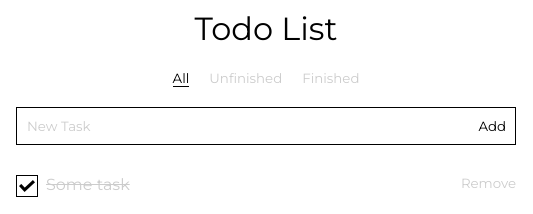
Remove task
The image size is (533, 214).
Click the button "Remove" at (488, 183), box 461,175 -> 516,191
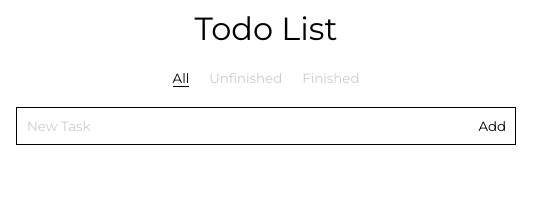
Expected: the text "Some task" is gone
